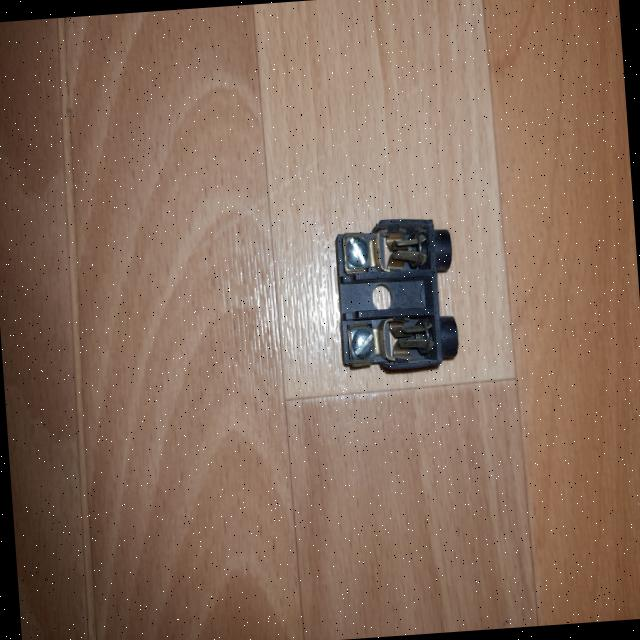Slotted: (349, 327, 375, 360), (346, 234, 370, 266)
